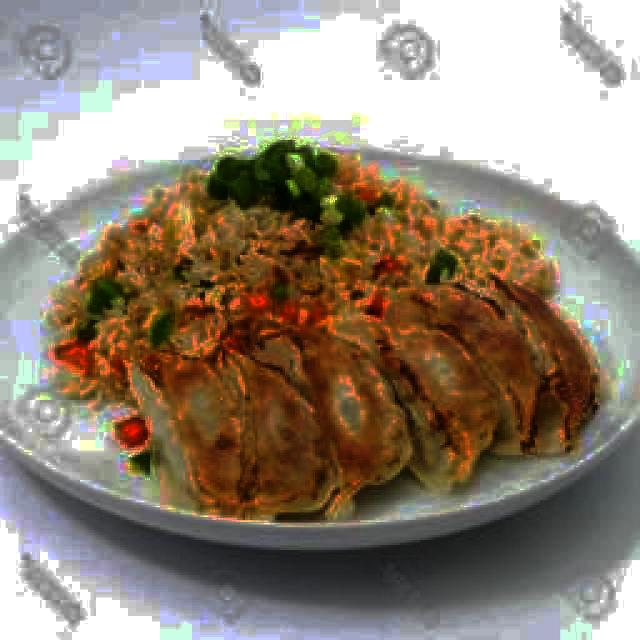Fried Rice: (56, 141, 553, 390)
fried_dumplings: (345, 316, 498, 492), (390, 284, 542, 456), (271, 325, 413, 503), (476, 279, 596, 452), (227, 347, 338, 518), (126, 352, 245, 511)
